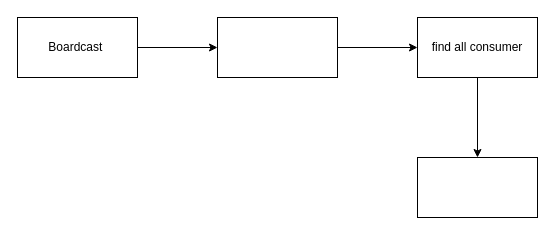
Some shapes in this 555 by 235 pixel diagram are drawn without their labels. Here are the shapes that lost their labels. From the top down, the box of each, then its label:
(216, 16, 338, 78): check messtype=3
(416, 156, 538, 218): accroding consumer number create consumer group
